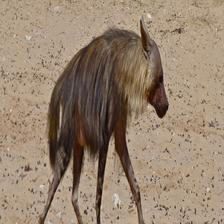hyena: (31, 13, 187, 224)
